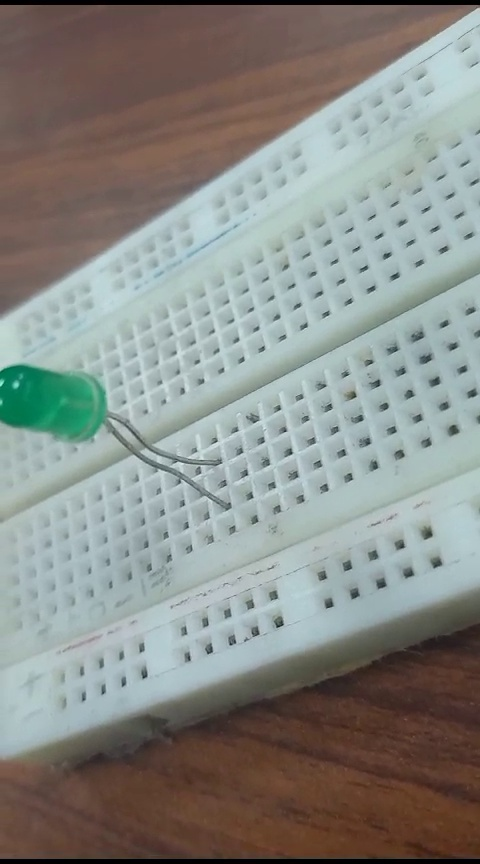LED: (6, 353, 234, 505)
